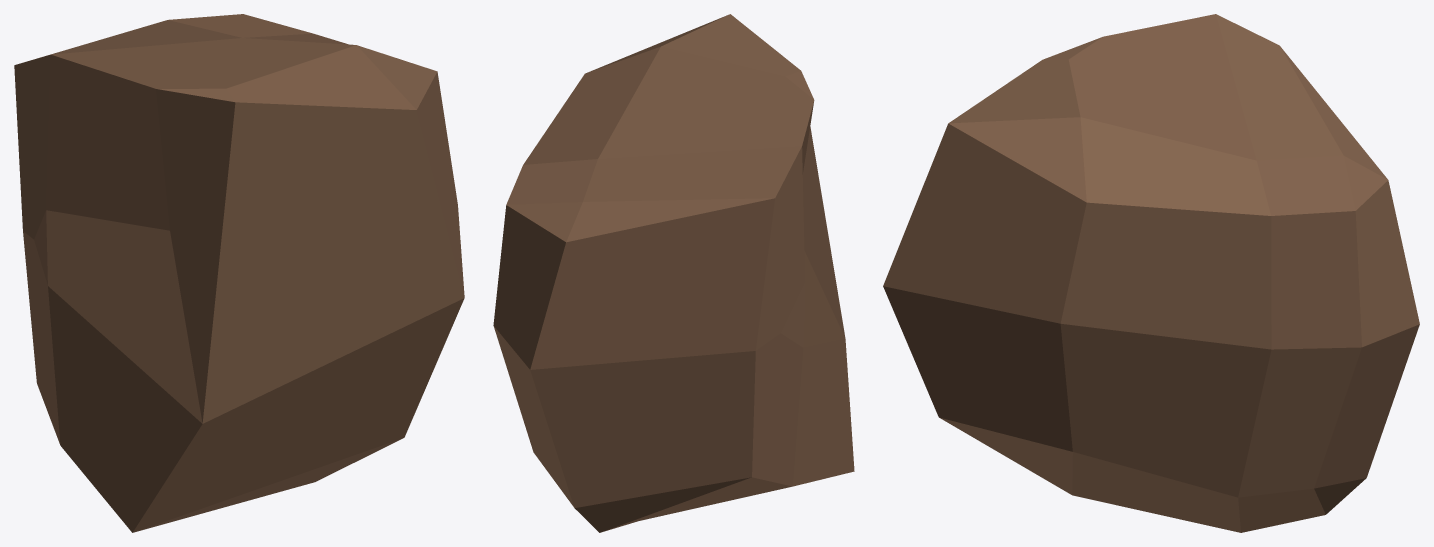
File: Nugget1_Brown.fbx
3 views of the same model, side by side, from view 1: azimuth 30°, elevation 25°; view 2: azimuth 150°, elevation 25°; view 3: azimuth 270°, elevation 25° (orthographic). The views are drawn at different scales.
Visible parts, largest first — view 1: Nugget1_Brown; view 2: Nugget1_Brown; view 3: Nugget1_Brown.
Boxes of the visible parts, <box> form: Nugget1_Brown: <box>14,14,464,532</box>; Nugget1_Brown: <box>493,14,854,532</box>; Nugget1_Brown: <box>883,14,1419,532</box>.
Bounding box in the file's own units: 25.47 × 34.73 × 38.13.
